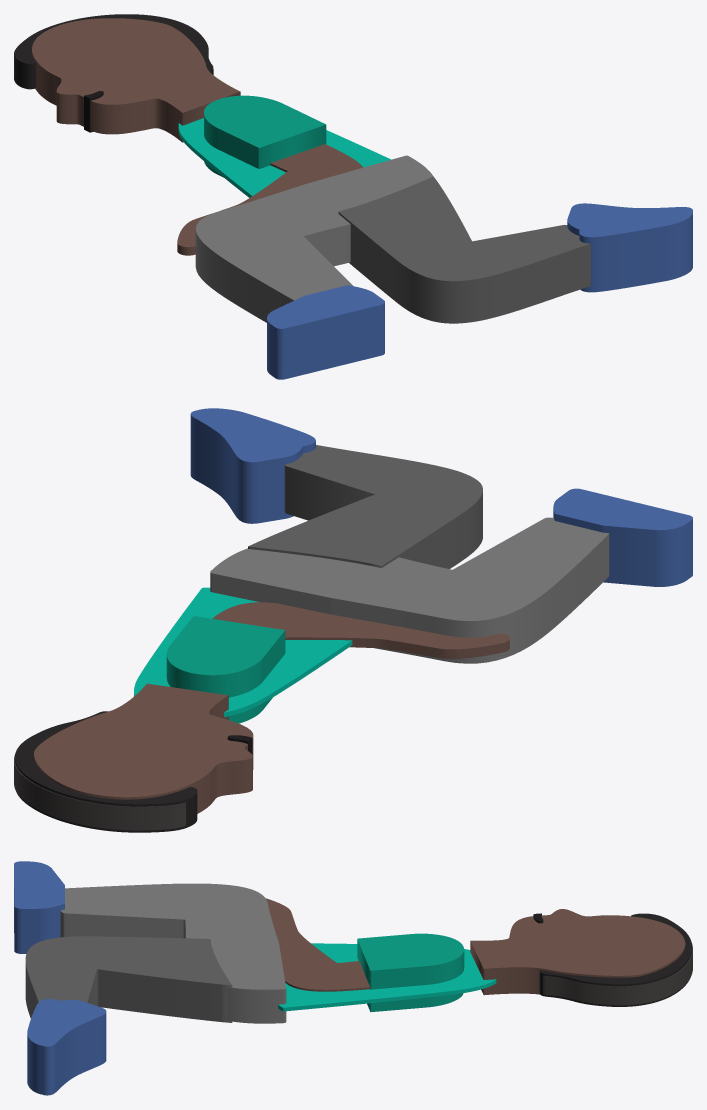
File: emoji_u1f9ce_1f3ff_200d_2642.glb
The picture shows the model from 3 angles, top to bottom: view 1: azimuth 30°, elevation 25°; view 2: azimuth 150°, elevation 25°; view 3: azimuth 270°, elevation 25°; orthographic projection. The views are drawn at different scales.
Parts seen in each view (by area): view 1: emoji_u1f9ce_1f3ff_200d_2642; view 2: emoji_u1f9ce_1f3ff_200d_2642; view 3: emoji_u1f9ce_1f3ff_200d_2642.
Part boxes in pixels (<box>): emoji_u1f9ce_1f3ff_200d_2642: <box>14,14,692,379</box>; emoji_u1f9ce_1f3ff_200d_2642: <box>14,408,692,832</box>; emoji_u1f9ce_1f3ff_200d_2642: <box>14,861,692,1095</box>.
Size of the model in its own units: 0.0213 by 0.0026 by 0.0327.
